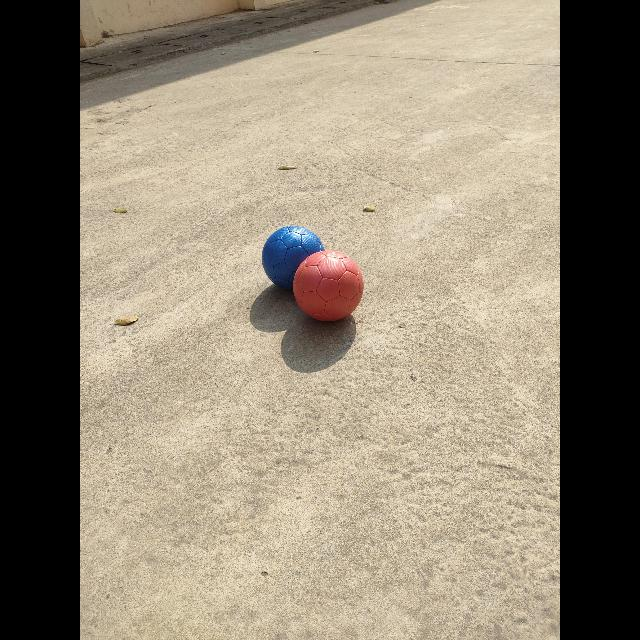B: (262, 226, 325, 290)
R: (293, 250, 364, 321)
